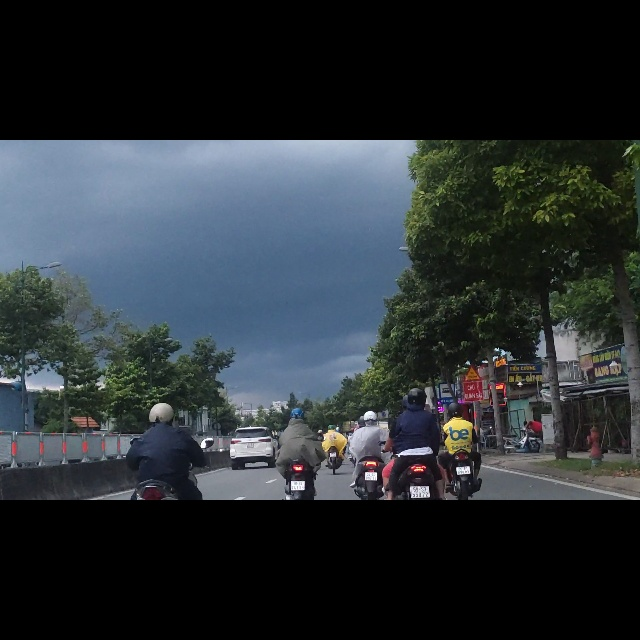bien_nguy_hiem: (438, 430, 456, 469), (463, 401, 481, 428)
